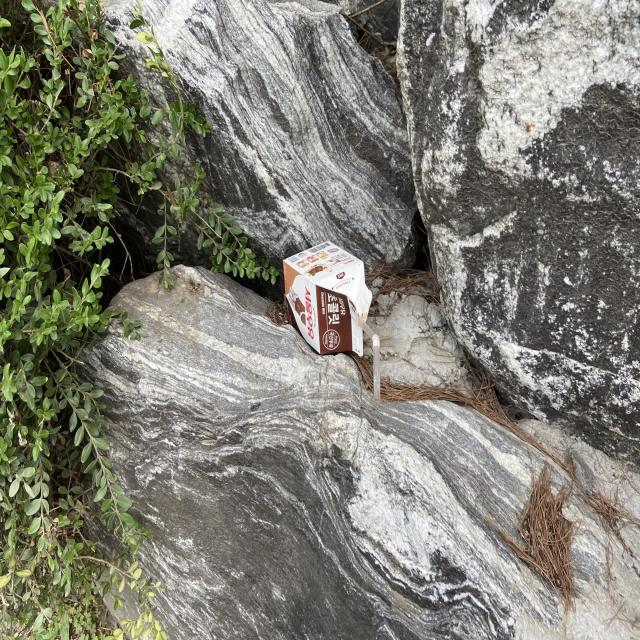paperpack: (284, 241, 372, 356)
